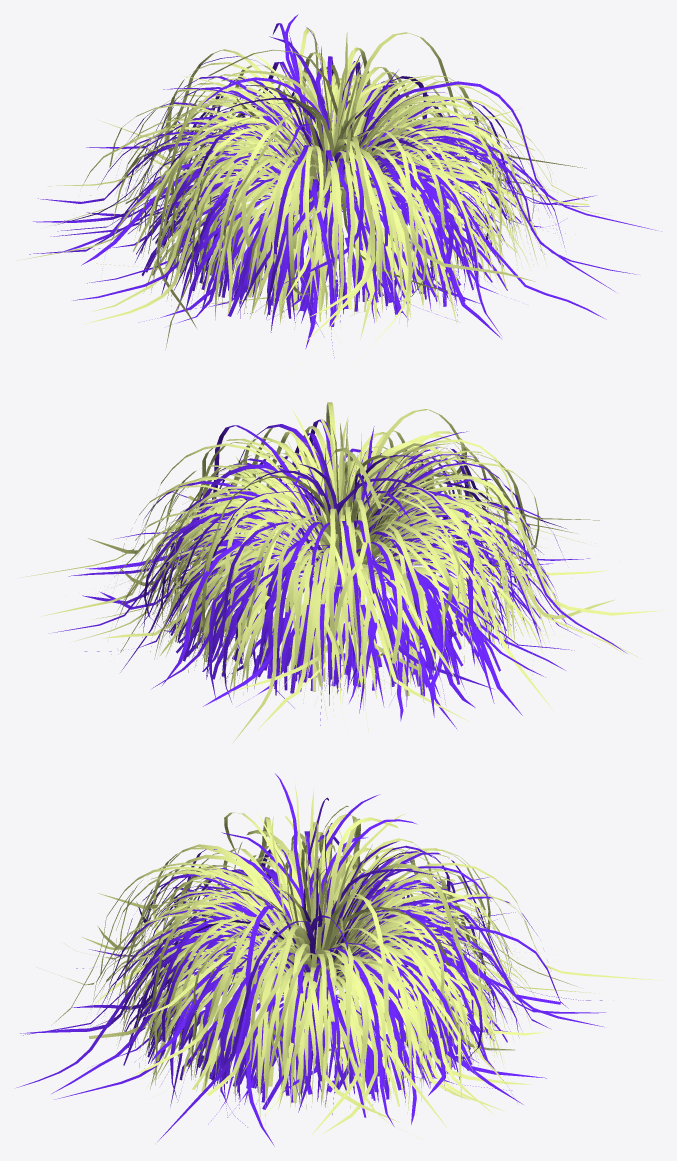
The model's file is Grass_A.fbx.
3 renders of one model, top to bottom at view 1: azimuth 30°, elevation 25°; view 2: azimuth 150°, elevation 25°; view 3: azimuth 270°, elevation 25°, orthographic.
Parts seen in each view (by area): view 1: Geometry_Grass_A; view 2: Geometry_Grass_A; view 3: Geometry_Grass_A.
Part boxes in pixels (box(x1,y1,x2,y2)): Geometry_Grass_A: box(16, 14, 661, 372); Geometry_Grass_A: box(17, 402, 662, 743); Geometry_Grass_A: box(16, 773, 660, 1146).
Bounding box in the file's own units: 52 × 19 × 54.15.
